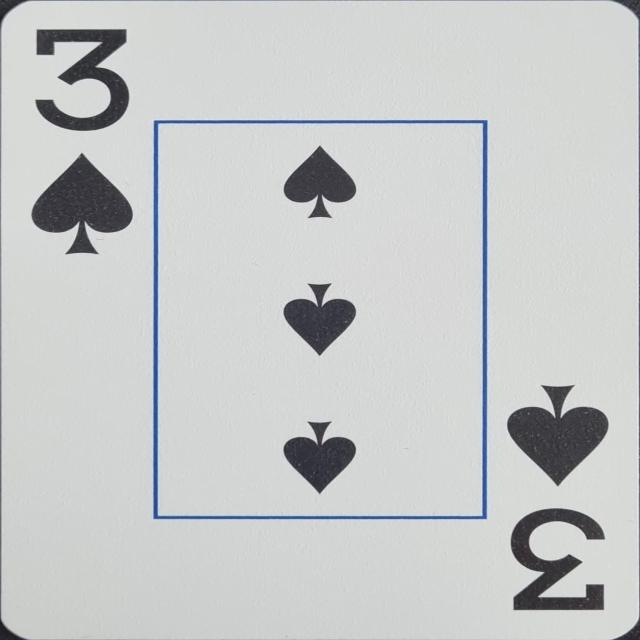3s: (27, 23, 139, 259), (503, 382, 610, 612)
